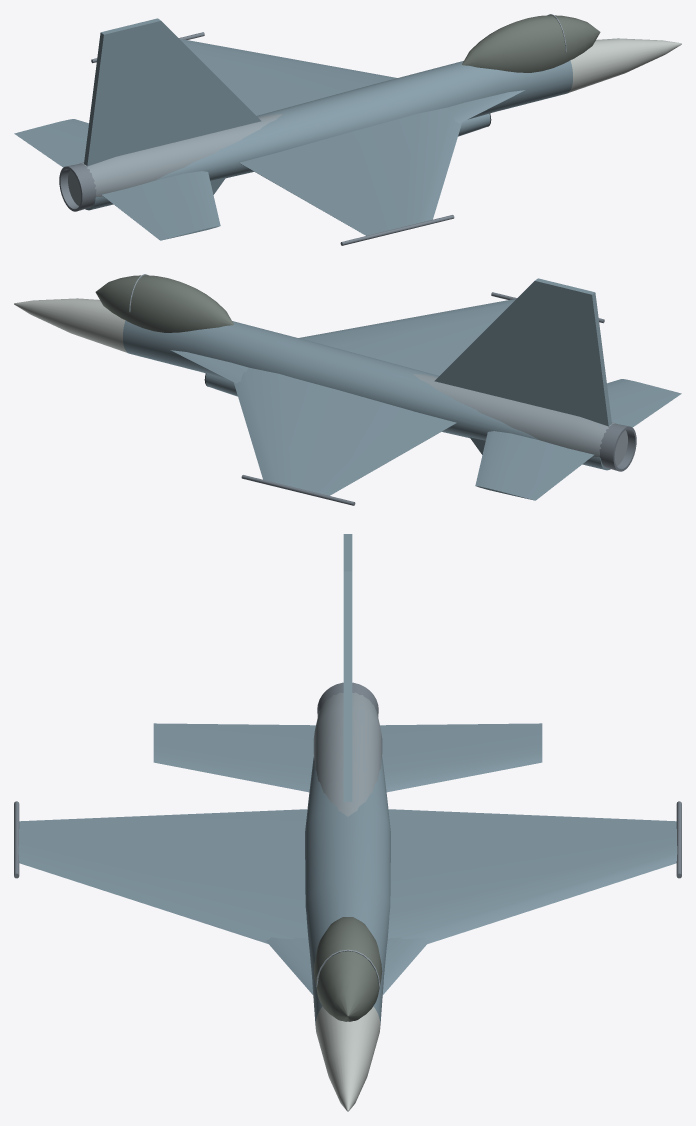
The model's file is jasdf_fighter_f2.glb.
3 renders of one model, top to bottom at view 1: azimuth 30°, elevation 25°; view 2: azimuth 150°, elevation 25°; view 3: azimuth 270°, elevation 25°, orthographic. The views are drawn at different scales.
Visible parts, largest first — view 1: airframe_blue, canopy_gold, airframe, array_face, titanium; view 2: airframe_blue, canopy_gold, airframe, array_face, titanium; view 3: airframe_blue, airframe, canopy_gold, array_face, titanium.
Part boxes in pixels (<box>): airframe_blue: <box>14,18,572,240</box>; canopy_gold: <box>462,15,600,72</box>; airframe: <box>68,14,566,205</box>; array_face: <box>568,38,681,92</box>; titanium: <box>59,32,454,245</box>; airframe_blue: <box>123,278,681,500</box>; canopy_gold: <box>95,275,233,332</box>; airframe: <box>129,274,627,465</box>; array_face: <box>14,298,127,352</box>; titanium: <box>241,292,636,505</box>; airframe_blue: <box>18,534,677,1025</box>; airframe: <box>313,692,382,986</box>; canopy_gold: <box>313,917,382,1021</box>; array_face: <box>315,1006,380,1111</box>; titanium: <box>14,682,681,878</box>.
Size of the model in its own units: 10 by 3.17 by 7.13.
